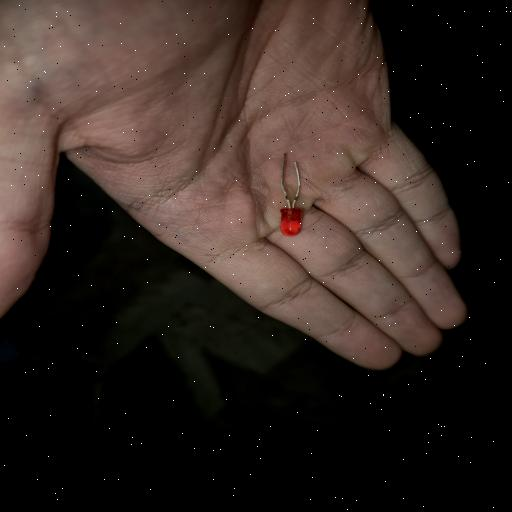led-diode: (280, 155, 302, 237)
